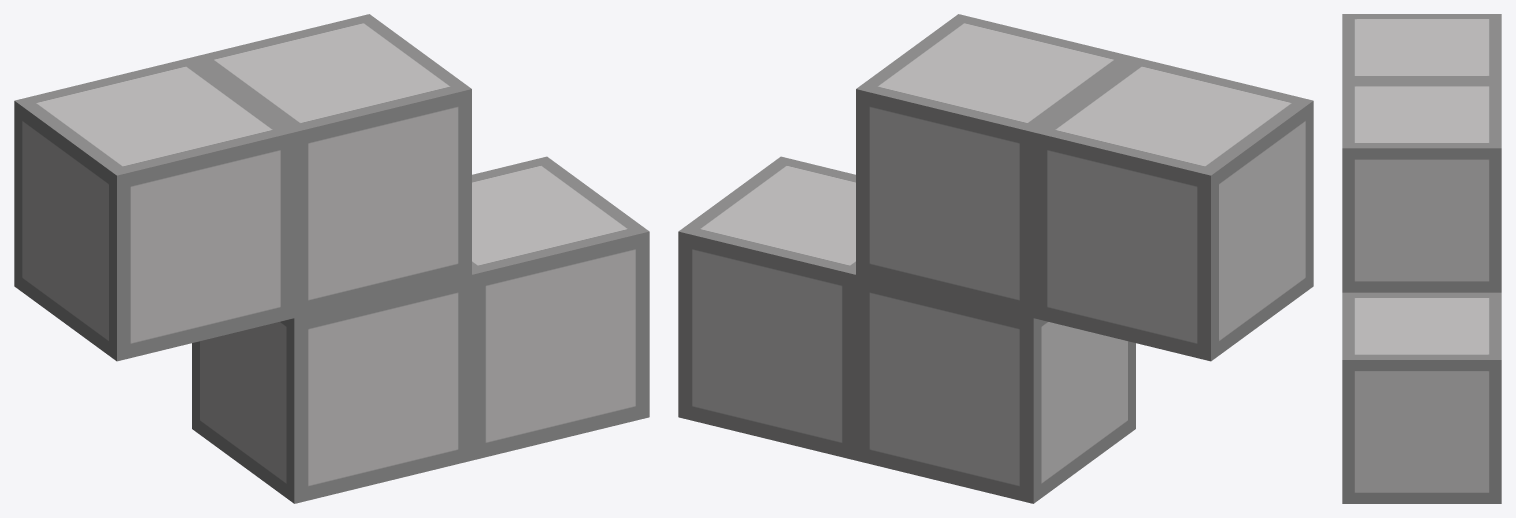
Rendered from ZpieceTri.obj.
3 renders of one model, left to right at view 1: azimuth 30°, elevation 25°; view 2: azimuth 150°, elevation 25°; view 3: azimuth 270°, elevation 25°, orthographic. The views are drawn at different scales.
Visible parts, largest first — view 1: ZpieceTri; view 2: ZpieceTri; view 3: ZpieceTri.
Part boxes in pixels (<box>): ZpieceTri: <box>14,14,649,503</box>; ZpieceTri: <box>678,14,1313,503</box>; ZpieceTri: <box>1342,14,1501,503</box>.
Bounding box in the file's own units: 3 × 2 × 1.
Materials: 1 (1 with a texture image).
